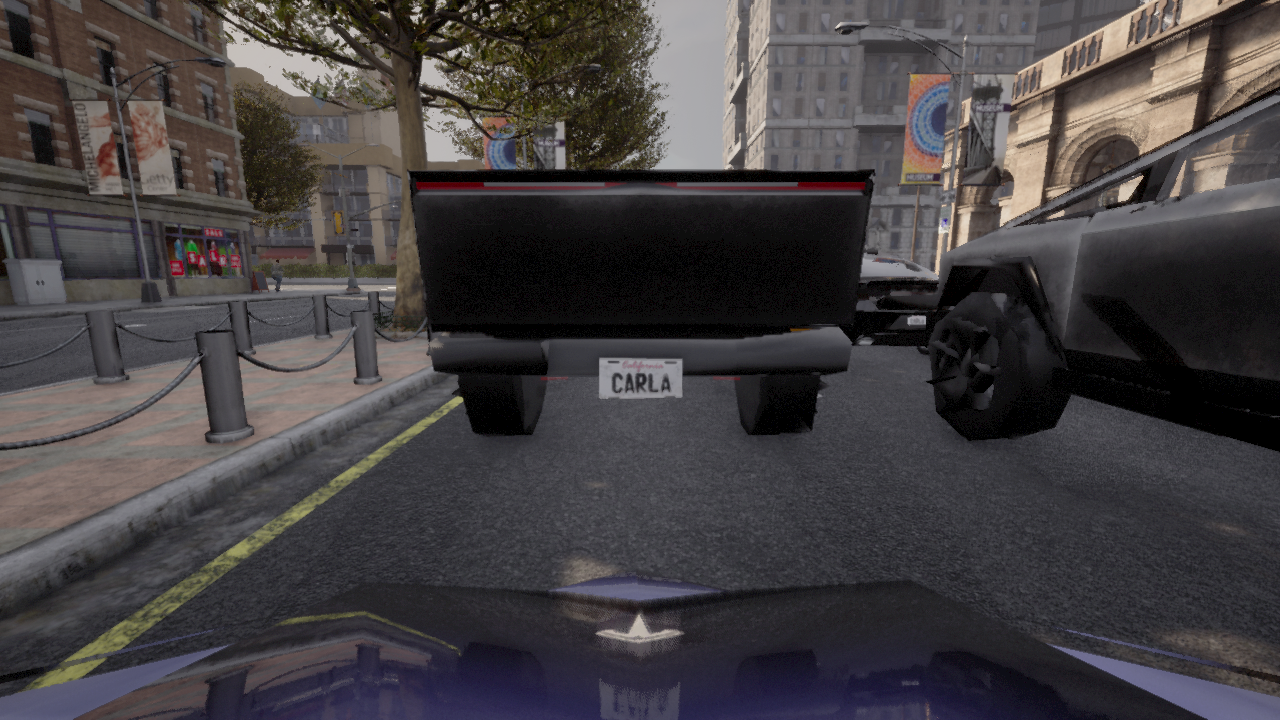cyclist: (0, 569, 1279, 719), (922, 86, 1279, 451), (407, 169, 875, 436), (838, 248, 936, 354)
pedestrian: (270, 259, 287, 292)
